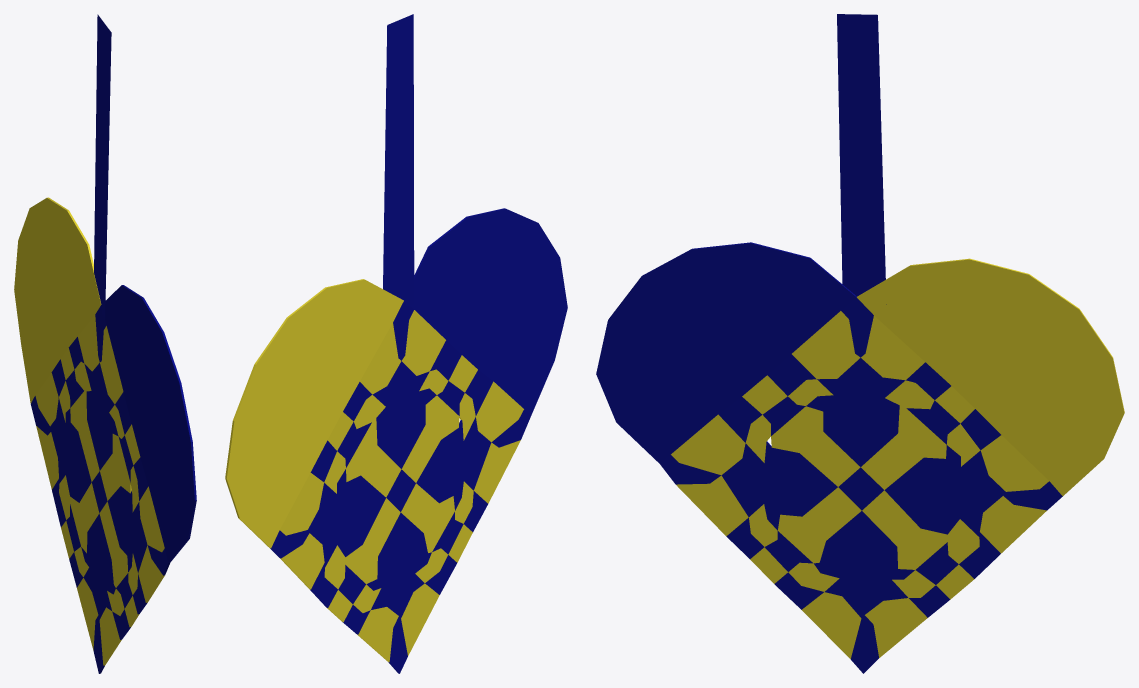
The model's file is heart13.glb.
The picture shows the model from 3 angles, left to right: view 1: azimuth 30°, elevation 25°; view 2: azimuth 150°, elevation 25°; view 3: azimuth 270°, elevation 25°; orthographic projection.
Visible parts, largest first — view 1: heart13; view 2: heart13; view 3: heart13.
Boxes of the visible parts, <box> form: heart13: <box>14,14,196,673</box>; heart13: <box>225,14,567,673</box>; heart13: <box>596,14,1124,673</box>.
Size of the model in its own units: 0.0244 by 0.1856 by 0.1345.
